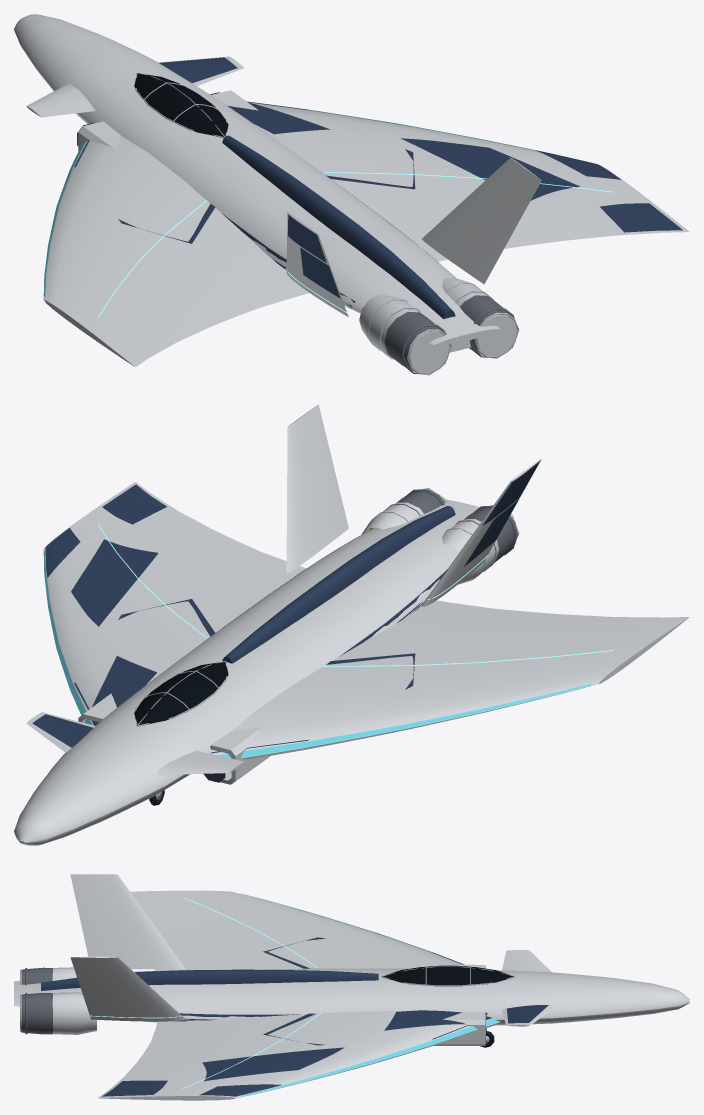
File: game.glb
3 renders of one model, top to bottom at view 1: azimuth 30°, elevation 25°; view 2: azimuth 150°, elevation 25°; view 3: azimuth 270°, elevation 25°, orthographic. The views are drawn at different scales.
Visible parts, largest first — view 1: game_body_Paint_Base, game_body_Paint_Secondary, game_body_Canopy_Glass_Dark, game_body_Metal_Heat, game_body_Metal_Detail, game_body_Paint_Accent, game_body_Glow_Emit; view 2: game_body_Paint_Base, game_body_Paint_Secondary, game_body_Canopy_Glass_Dark, game_body_Paint_Accent, game_body_Metal_Heat, game_body_Metal_Detail, game_body_Glow_Emit; view 3: game_body_Paint_Base, game_body_Paint_Secondary, game_body_Canopy_Glass_Dark, game_body_Metal_Heat, game_body_Paint_Accent, game_body_Metal_Detail, game_body_Glow_Emit.
Boxes of the visible parts, x1=… form: game_body_Paint_Base: x1=14, y1=14, x2=689, y2=372; game_body_Paint_Secondary: x1=74, y1=57, x2=682, y2=319; game_body_Canopy_Glass_Dark: x1=134, y1=73, x2=228, y2=136; game_body_Metal_Heat: x1=384, y1=295, x2=514, y2=373; game_body_Metal_Detail: x1=135, y1=72, x2=519, y2=375; game_body_Paint_Accent: x1=43, y1=109, x2=586, y2=296; game_body_Glow_Emit: x1=98, y1=172, x2=613, y2=318; game_body_Paint_Base: x1=14, y1=404, x2=689, y2=845; game_body_Paint_Secondary: x1=32, y1=461, x2=539, y2=753; game_body_Canopy_Glass_Dark: x1=134, y1=662, x2=228, y2=725; game_body_Paint_Accent: x1=43, y1=550, x2=592, y2=758; game_body_Metal_Heat: x1=397, y1=489, x2=517, y2=562; game_body_Metal_Detail: x1=78, y1=488, x2=519, y2=784; game_body_Glow_Emit: x1=98, y1=524, x2=613, y2=666; game_body_Paint_Base: x1=14, y1=874, x2=689, y2=1100; game_body_Paint_Secondary: x1=41, y1=937, x2=548, y2=1096; game_body_Canopy_Glass_Dark: x1=383, y1=965, x2=513, y2=985; game_body_Metal_Heat: x1=21, y1=967, x2=53, y2=1034; game_body_Paint_Accent: x1=240, y1=893, x2=499, y2=1096; game_body_Metal_Detail: x1=20, y1=965, x2=515, y2=1044; game_body_Glow_Emit: x1=90, y1=897, x2=321, y2=1088.
Bounding box in the file's own units: 16.4 × 5.11 × 22.8.
